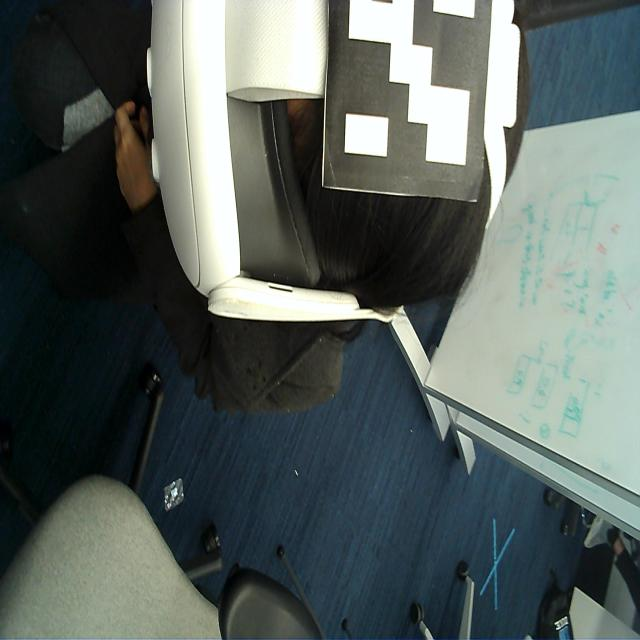Aruco Marker: (320, 1, 494, 206)
VR Headset: (144, 1, 528, 323)
